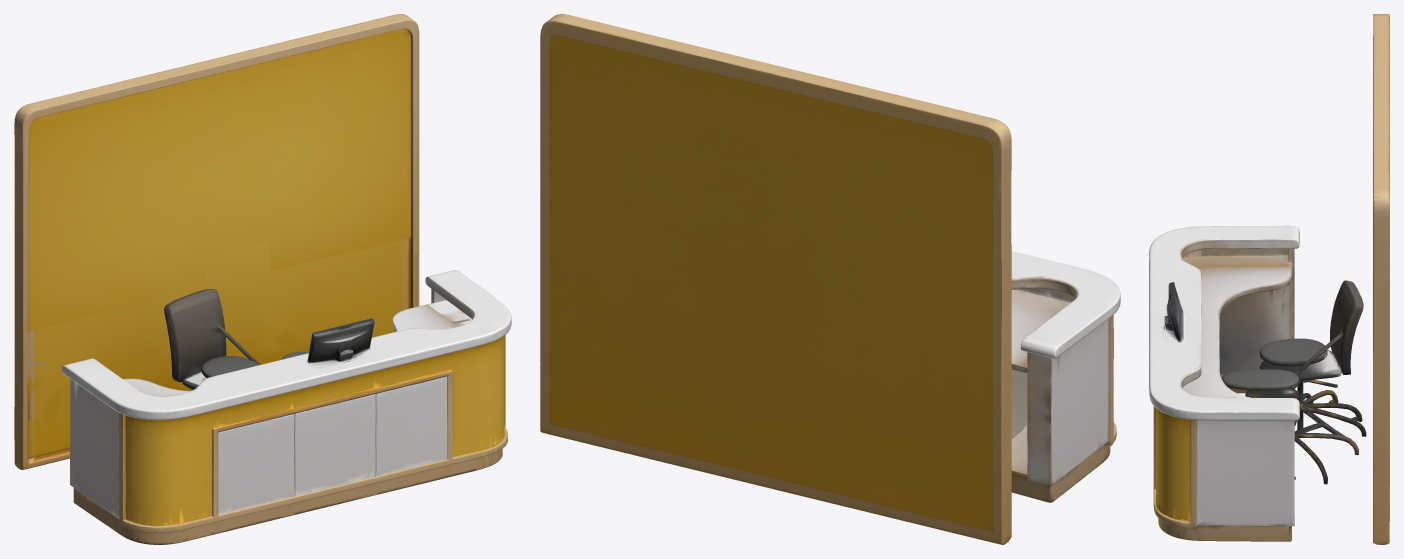
3 renders of one model, left to right at view 1: azimuth 30°, elevation 25°; view 2: azimuth 150°, elevation 25°; view 3: azimuth 270°, elevation 25°, orthographic. The views are drawn at different scales.
Visible parts, largest first — view 1: node_0; view 2: node_0; view 3: node_0.
Part boxes in pixels (left/top/right/bottom): node_0: left=14, top=14, right=511, bottom=544; node_0: left=540, top=14, right=1120, bottom=544; node_0: left=1149, top=14, right=1389, bottom=544.
Bounding box in the file's own units: 0.844 × 0.7311 × 0.4564.
Materials: 1 (1 with a texture image).
